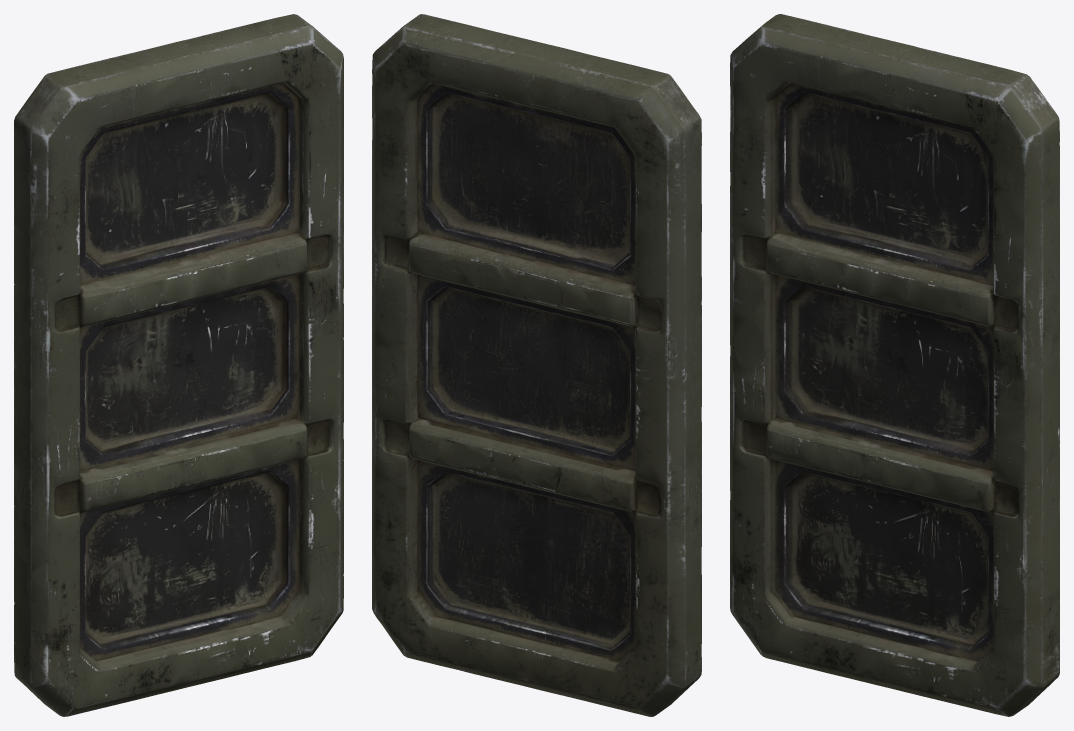
The model's file is sm_menban.fbx.
3 views of the same model, side by side, from view 1: azimuth 30°, elevation 25°; view 2: azimuth 150°, elevation 25°; view 3: azimuth 330°, elevation 25° (orthographic).
Parts seen in each view (by area): view 1: mesh_node; view 2: mesh_node; view 3: mesh_node.
Boxes of the visible parts, left/top/right/bottom form: mesh_node: left=14, top=14, right=343, bottom=716; mesh_node: left=372, top=14, right=701, bottom=716; mesh_node: left=730, top=14, right=1059, bottom=716.
Bounding box in the file's own units: 1.03 × 1.98 × 0.1977.
